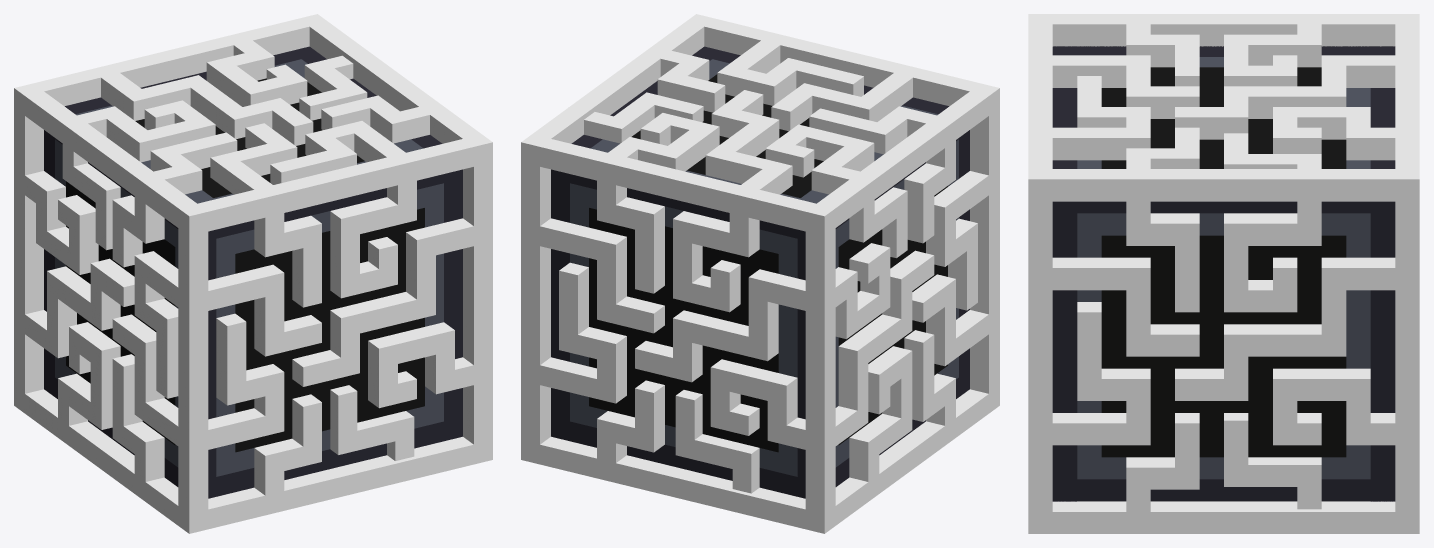
Rendered from MEController.glb.
3 renders of one model, left to right at view 1: azimuth 30°, elevation 25°; view 2: azimuth 150°, elevation 25°; view 3: azimuth 270°, elevation 25°, orthographic. The views are drawn at different scales.
Parts seen in each view (by area): view 1: cuboid (×104), cube (×18); view 2: cuboid (×106), cube (×17); view 3: cuboid (×80), cube (×13).
Boxes of the visible parts, x1,y1,x2,y2 form: cuboid (×104): (14,33,492,514); cube (×18): (14,14,492,533); cuboid (×106): (522,40,999,498); cube (×17): (521,14,999,533); cuboid (×80): (1028,14,1419,533); cube (×13): (1028,14,1419,533).
Bounding box in the file's own units: 1 × 1 × 1.
5 materials, 5 textured.
